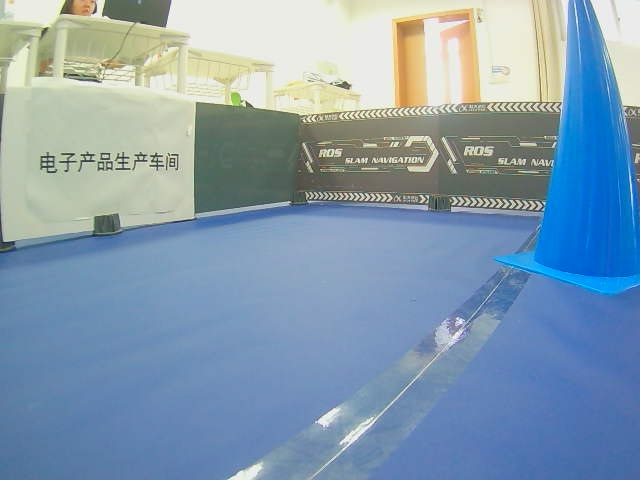target: (39, 151, 180, 174)
